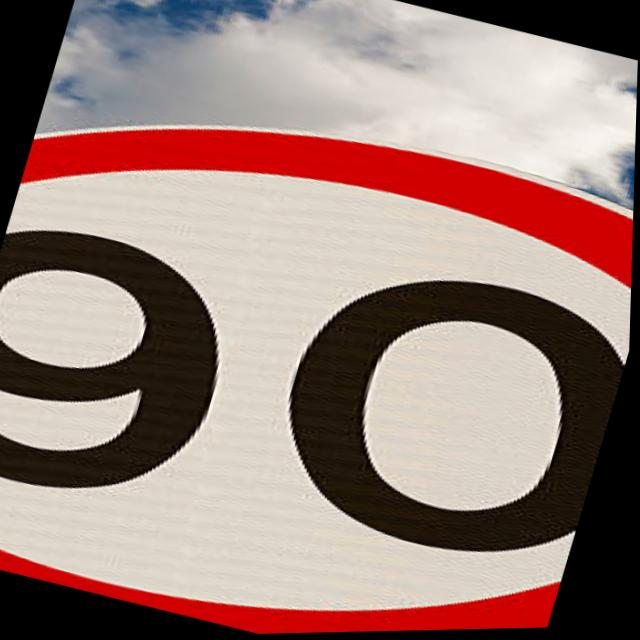Speed Limit -90-: (0, 44, 639, 640)
